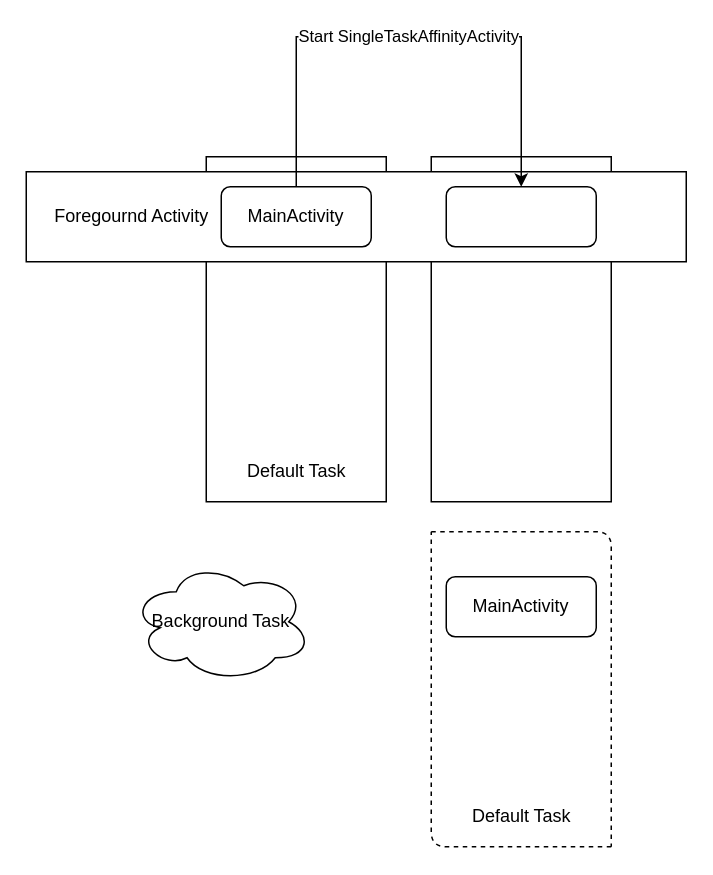
Some shapes in this 713 by 875 pixel diagram are drawn without their labels. Each missing label, with the centre of its shape:
com.example.myfirstapp.a1: [520,328]
SingleTaskAffinity Activity: [520,216]
